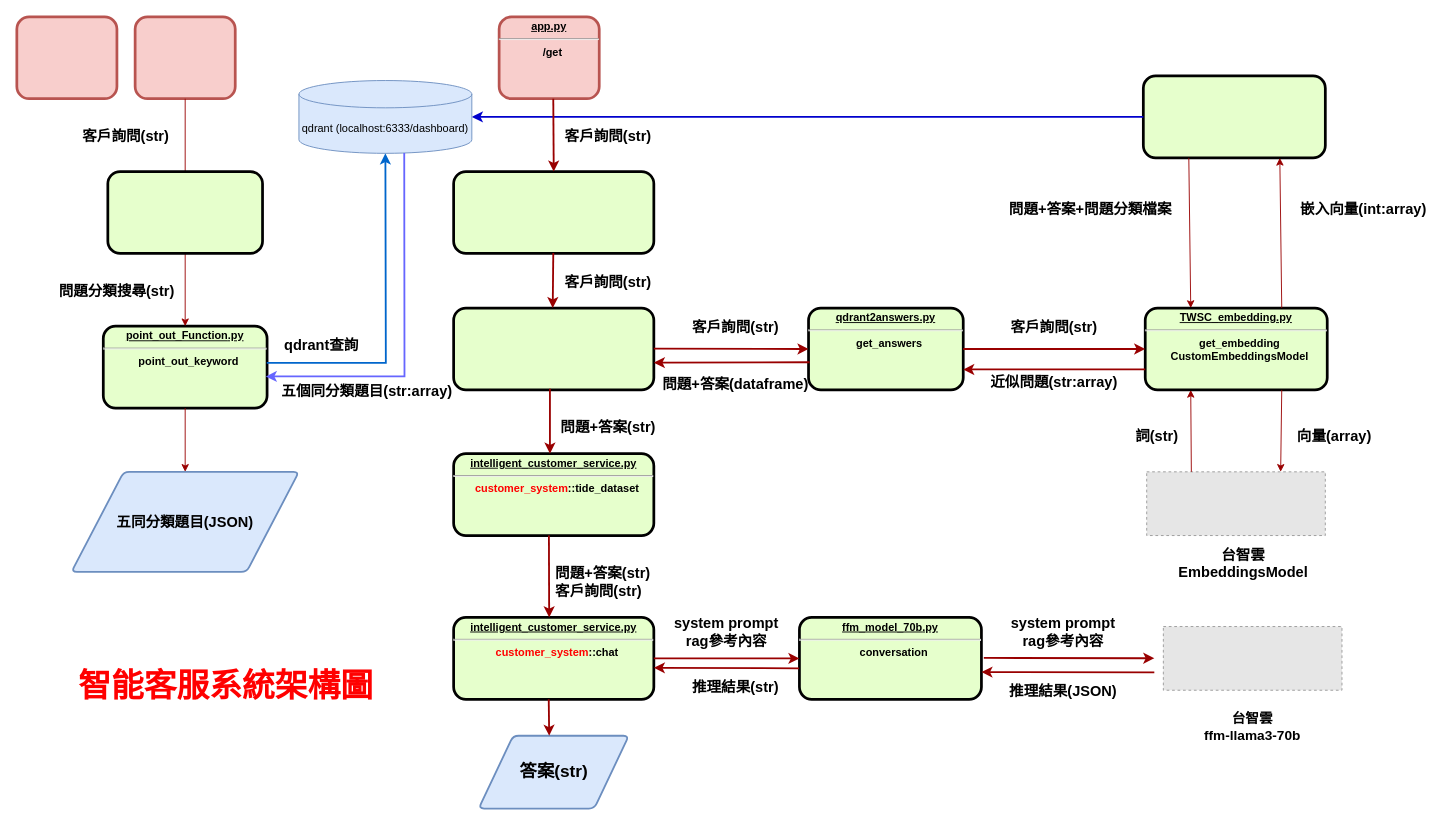
Image size: 1442x825. Some labels were removed from this diagram. Grey dashed boxes stand in for pictures. The centre of each missing label's shape, as x and y in pixels:
app.py /recommend: the point at 184,57
app.py index: the point at 66,57
data2qdrant.py data2qdrant: the point at 1234,116
intelligent_customer_service.py customer_system : : system: the point at 553,212
intelligent_customer_service.py customer_system : :search: the point at 553,348
qdrant2answer.py get_answers: the point at 184,212
